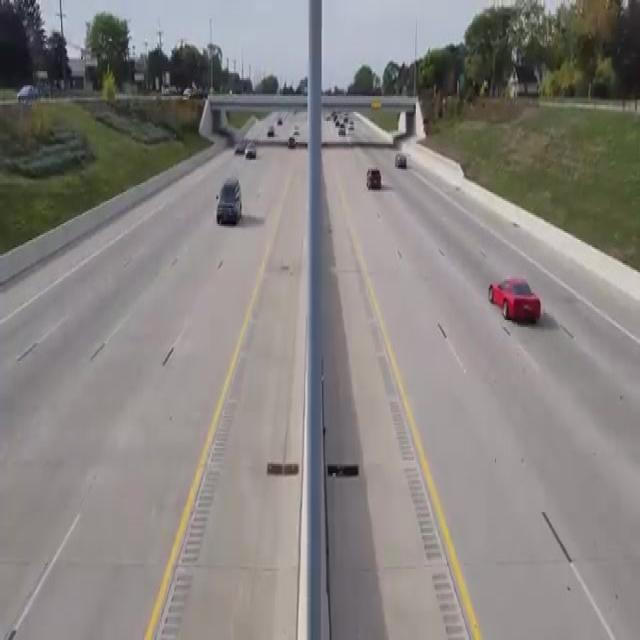car: (482, 250, 547, 324), (362, 162, 391, 206), (393, 148, 414, 179), (282, 126, 300, 155), (245, 136, 260, 162), (231, 131, 247, 155), (264, 128, 280, 148)
van: (204, 172, 256, 240)
